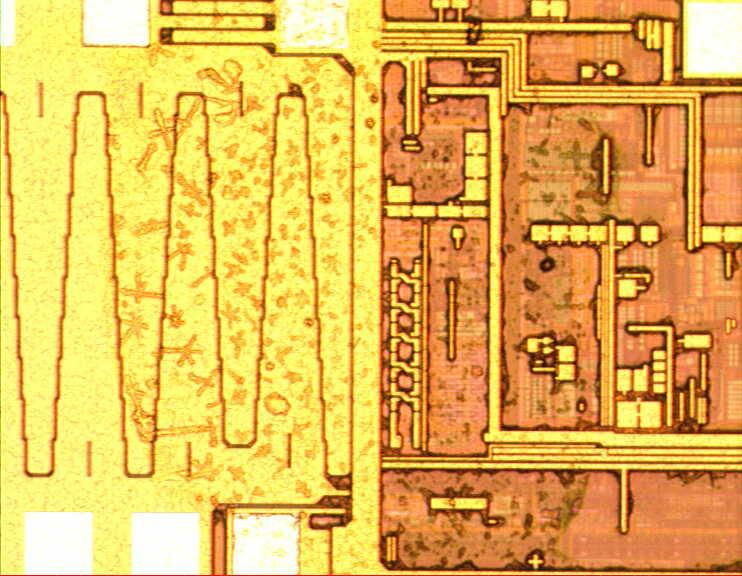PO CONTAMINATION: (106, 1, 629, 576)
